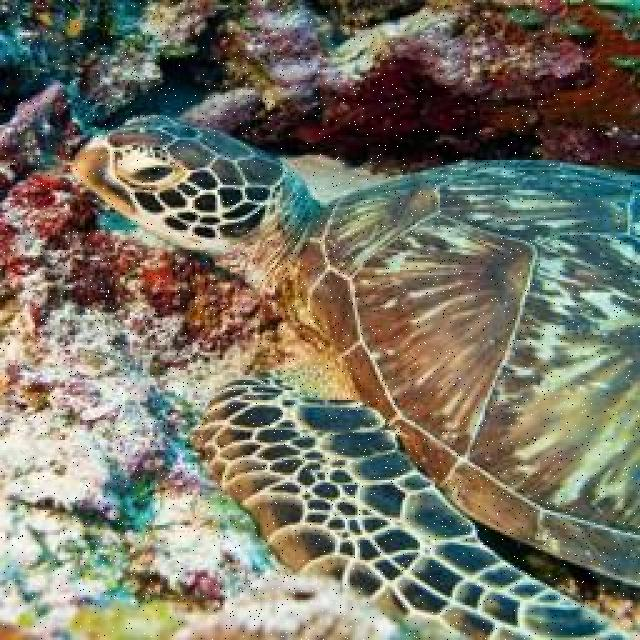fish: (69, 113, 638, 638)
